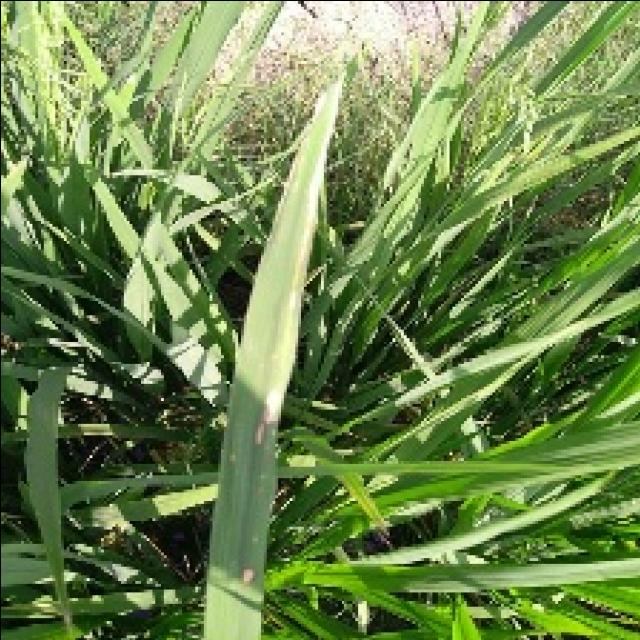Unhealthy: (285, 79, 338, 313), (252, 386, 283, 448), (240, 563, 258, 586)
